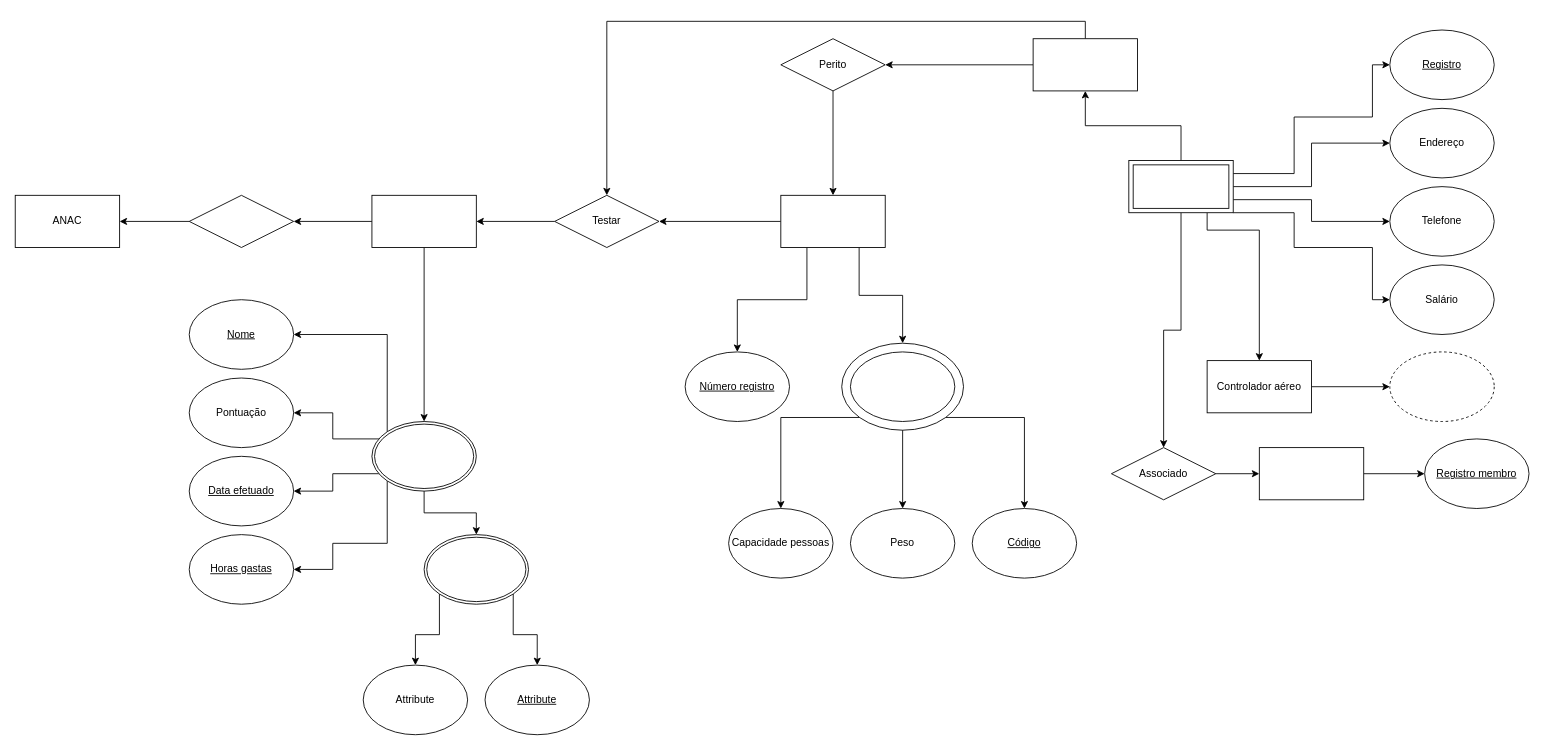
Some shapes in this 1544 by 750 pixel diagram are drawn without their labels. Here are the shapes that lost their labels. From the top down, the centre of each, then its label:
At point 1085,64: "Técnico".
At point 1180,186: "Empregados".
At point 241,221: "Enviar info.".
At point 423,221: "Teste".
At point 832,221: "Avião".
At point 902,386: "Modelo".
At point 1441,386: "Data último exame".
At point 423,456: "Número teste".
At point 1311,473: "Sindicato".
At point 476,569: "Empregado".
